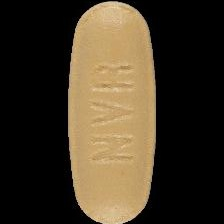68151-5044: (0, 0, 224, 224)
